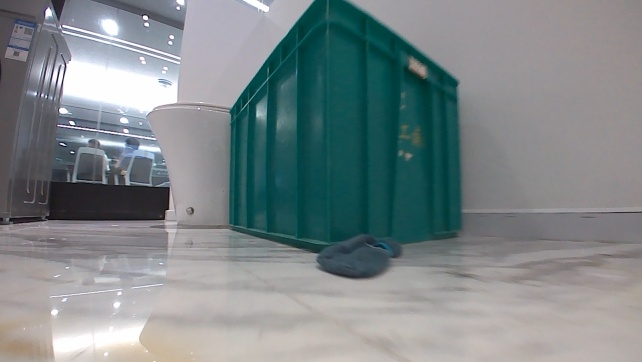socks: (315, 230, 403, 280)
toilet: (143, 100, 236, 229)
washing_machine1: (0, 0, 74, 224)
